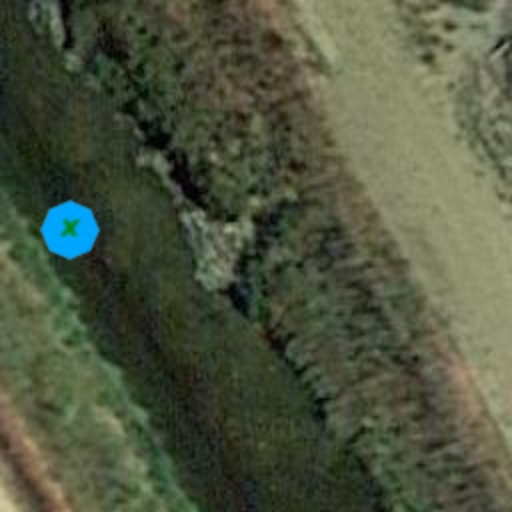octagon: (40, 200, 100, 260)
